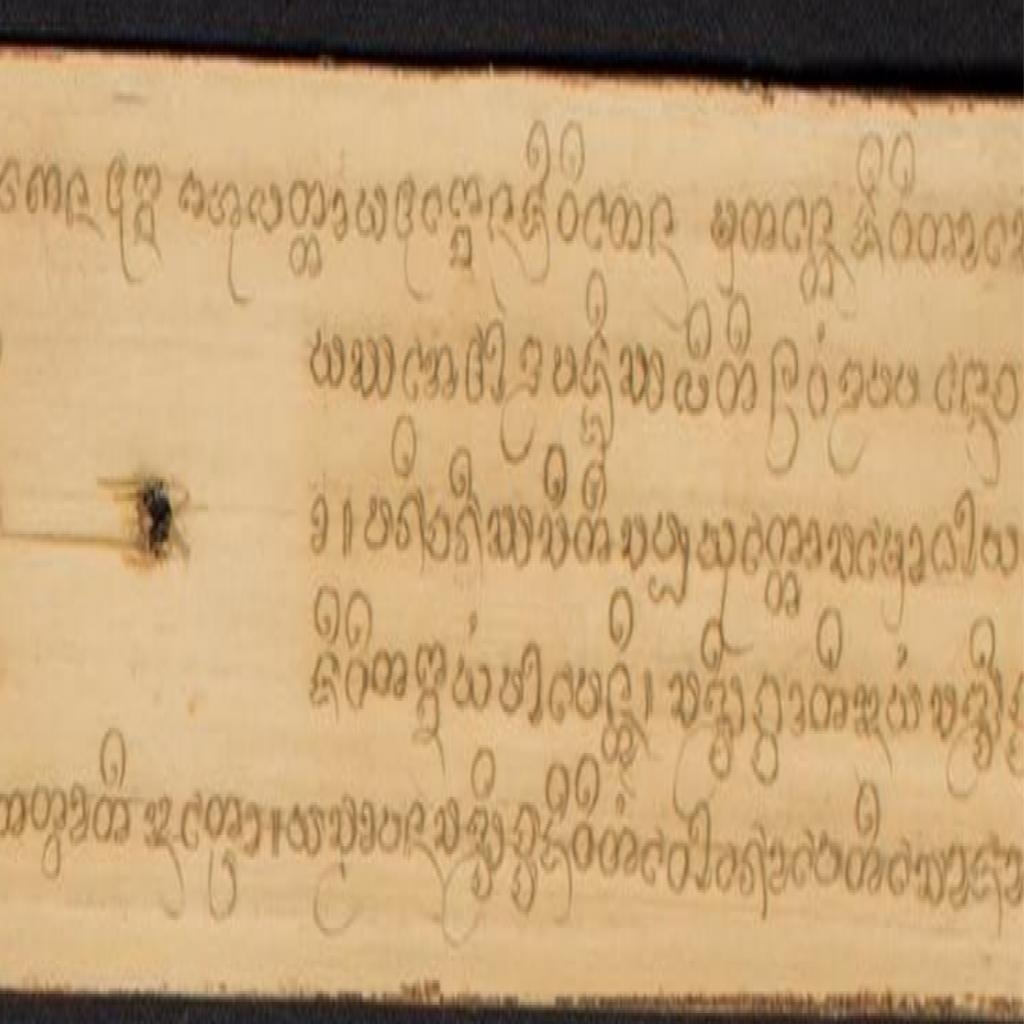LN023: (770, 332, 802, 430)
